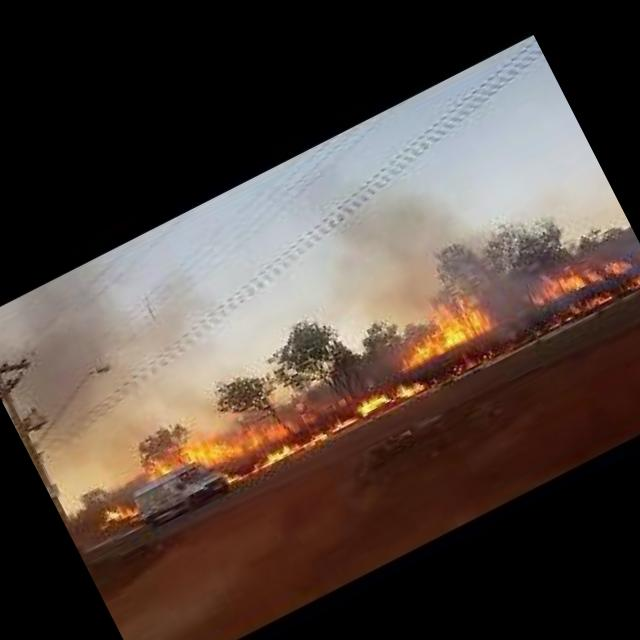fire: (224, 257, 640, 491), (146, 374, 332, 492), (386, 284, 501, 372), (522, 228, 630, 307), (98, 500, 138, 534)
smoke: (304, 148, 524, 354)
